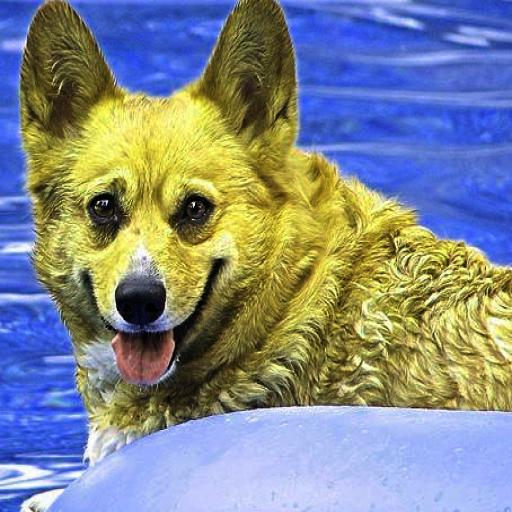dog_face: (4, 0, 294, 355)
